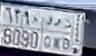0: (30, 15, 39, 50)
6: (3, 6, 11, 48)
9: (22, 9, 29, 48)
D: (61, 18, 70, 50)
